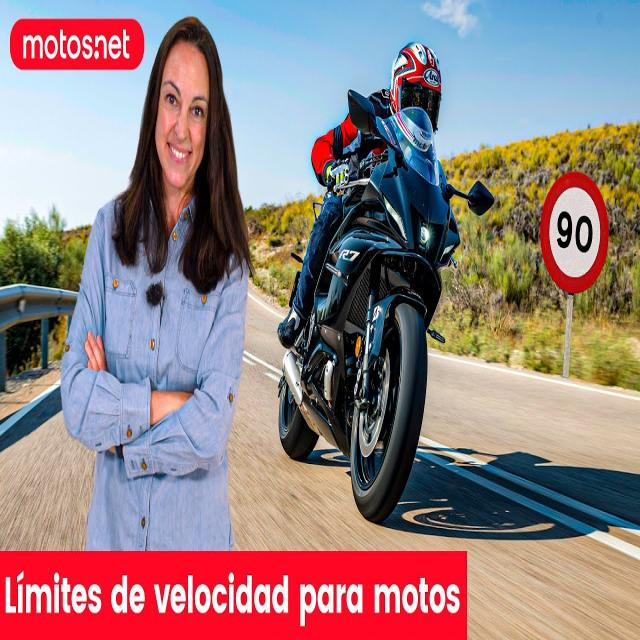MOTORCYCLE: (289, 112, 461, 525)
